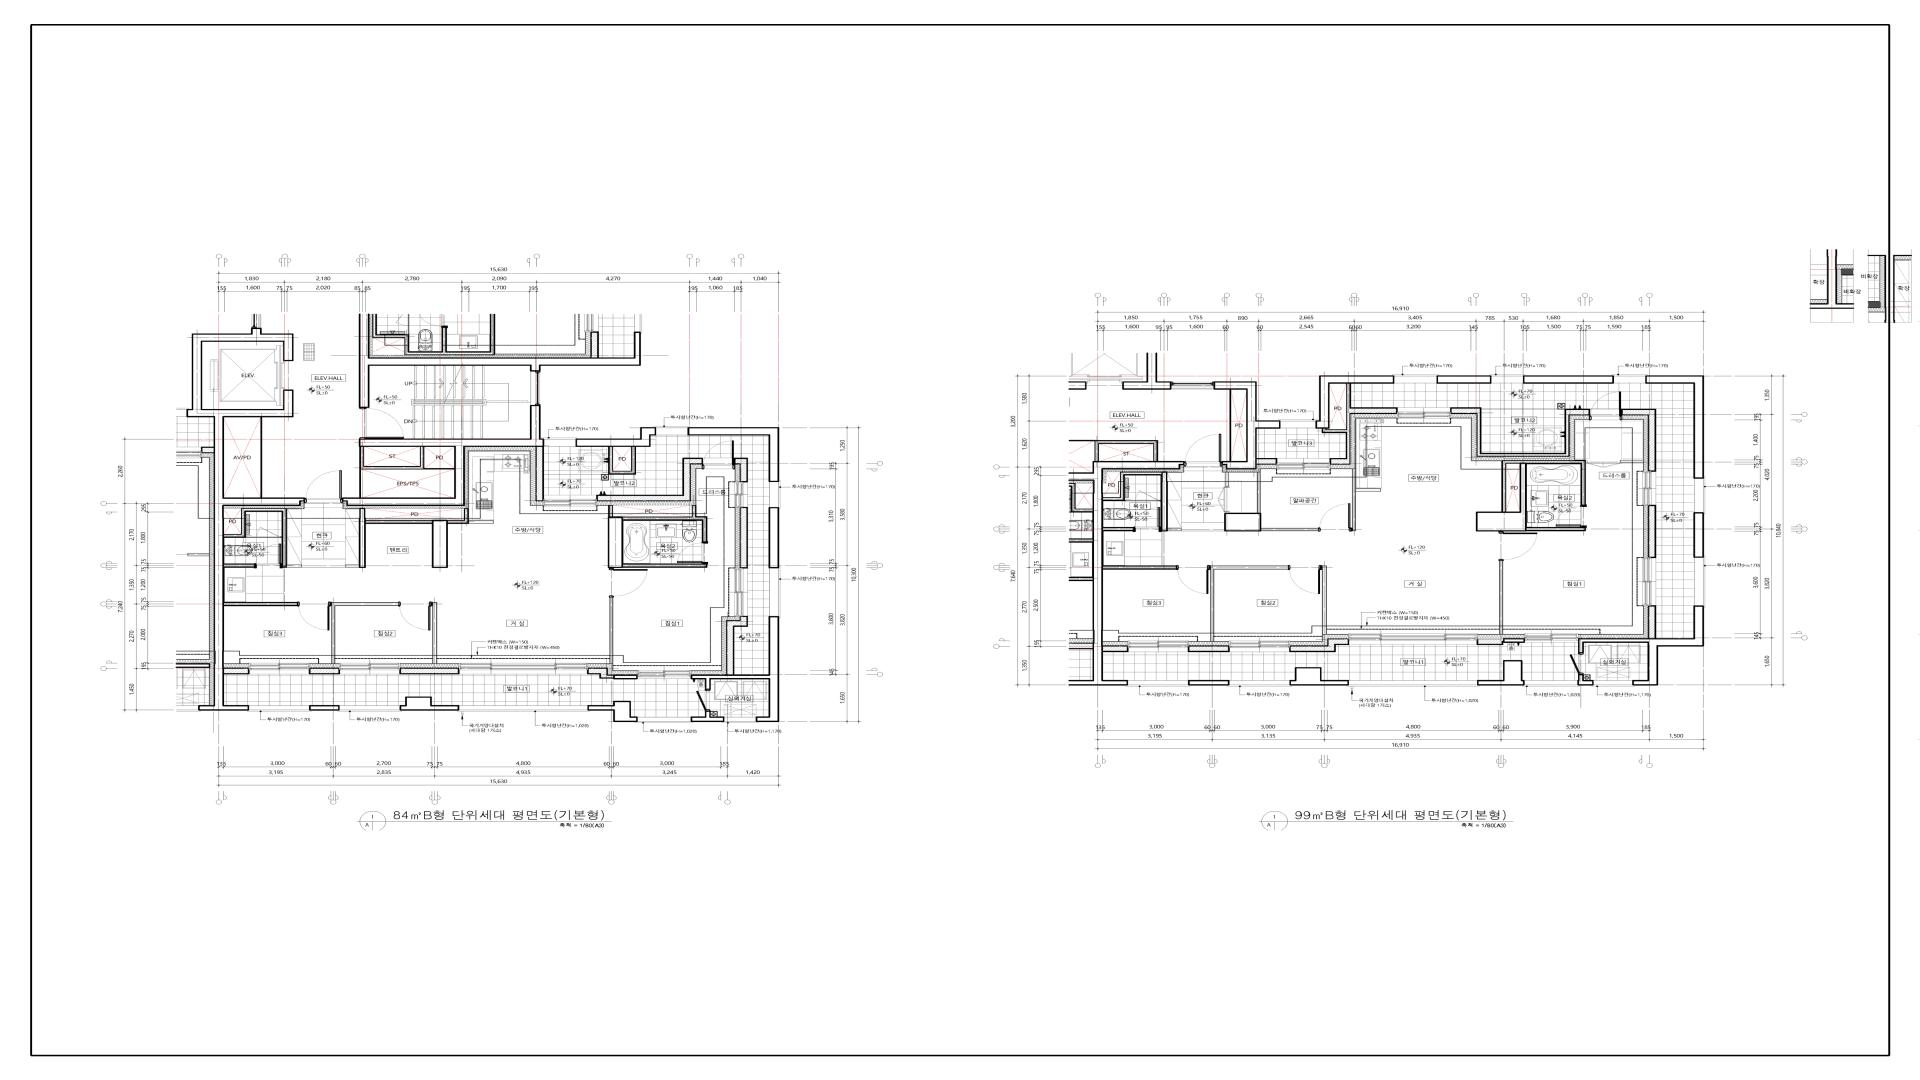door: (359, 407, 404, 439), (1184, 434, 1221, 471), (305, 469, 342, 504), (609, 568, 649, 597), (1499, 531, 1538, 560), (1178, 566, 1211, 595), (400, 601, 433, 630), (298, 601, 331, 630), (1288, 566, 1323, 593), (703, 440, 735, 469), (1319, 504, 1352, 531), (1590, 392, 1622, 419), (255, 543, 282, 568), (1134, 508, 1160, 531), (1556, 506, 1586, 526), (678, 543, 708, 563), (1134, 491, 1160, 501), (1586, 460, 1621, 468), (257, 527, 281, 538)
wall: (186, 328, 305, 711), (359, 314, 641, 407), (1068, 460, 1183, 686), (343, 405, 545, 506), (1578, 605, 1704, 686), (691, 616, 779, 723), (1451, 407, 1590, 456), (1321, 384, 1398, 464), (1209, 566, 1288, 642), (1646, 375, 1704, 479), (1213, 381, 1280, 469), (687, 427, 779, 483), (597, 458, 703, 501), (1502, 460, 1586, 512), (331, 603, 400, 663), (1316, 376, 1394, 429), (224, 508, 287, 568), (622, 505, 708, 543), (1622, 409, 1656, 471), (1102, 472, 1162, 501), (1124, 353, 1170, 389), (576, 427, 657, 447), (359, 447, 425, 469), (1095, 440, 1158, 462), (727, 616, 748, 675), (1477, 661, 1524, 686), (587, 700, 638, 723), (1290, 667, 1349, 686), (400, 696, 459, 711), (1290, 638, 1349, 653), (433, 520, 448, 568), (608, 447, 636, 475), (608, 517, 622, 568), (1523, 376, 1614, 384), (769, 508, 779, 568), (535, 447, 545, 501), (1693, 512, 1704, 558), (740, 508, 748, 568), (622, 563, 708, 568), (1437, 376, 1491, 384), (1648, 505, 1656, 558), (691, 711, 725, 723), (359, 508, 365, 568), (400, 667, 459, 674), (1160, 472, 1167, 531), (224, 601, 298, 607), (448, 508, 469, 524), (433, 603, 438, 663), (735, 458, 748, 481), (588, 667, 613, 679), (1104, 566, 1178, 570), (1499, 560, 1503, 634), (1323, 566, 1327, 634), (365, 520, 433, 524), (609, 597, 613, 663), (1352, 468, 1356, 530), (1526, 527, 1586, 531), (310, 667, 339, 675), (1262, 527, 1319, 531), (1188, 680, 1229, 686), (1188, 646, 1229, 651), (1578, 674, 1594, 686), (309, 705, 340, 711), (224, 667, 249, 674), (1102, 646, 1127, 653), (1257, 472, 1261, 513), (224, 563, 255, 568), (1068, 381, 1087, 389), (1477, 640, 1503, 645), (1257, 458, 1276, 464), (1102, 527, 1134, 531), (1503, 638, 1524, 644), (613, 675, 638, 679), (608, 505, 613, 517), (1621, 460, 1643, 463), (1225, 472, 1229, 487), (1168, 527, 1182, 531), (287, 564, 302, 567), (345, 564, 359, 567)
window: (1349, 633, 1477, 641), (459, 663, 588, 670), (1349, 680, 1477, 686), (459, 705, 587, 711), (1127, 641, 1188, 651), (1643, 558, 1656, 605), (1276, 459, 1331, 469), (769, 568, 781, 616), (1398, 407, 1451, 418), (1524, 633, 1578, 642), (249, 663, 310, 671), (1643, 471, 1656, 505), (1695, 558, 1704, 605), (735, 568, 744, 616), (638, 670, 691, 678), (1394, 375, 1437, 384), (1229, 641, 1290, 647), (339, 663, 400, 670), (530, 372, 541, 405), (545, 500, 597, 506), (1171, 381, 1215, 389), (1280, 419, 1316, 429), (1127, 680, 1188, 686), (1229, 680, 1290, 686), (249, 705, 309, 711), (340, 705, 400, 711), (1695, 479, 1704, 512), (769, 483, 781, 506), (657, 426, 687, 435), (545, 438, 575, 447), (1524, 680, 1577, 686), (638, 717, 691, 723), (1614, 375, 1646, 382), (1491, 375, 1523, 382), (735, 483, 744, 508), (1594, 680, 1633, 686), (725, 717, 756, 723)
